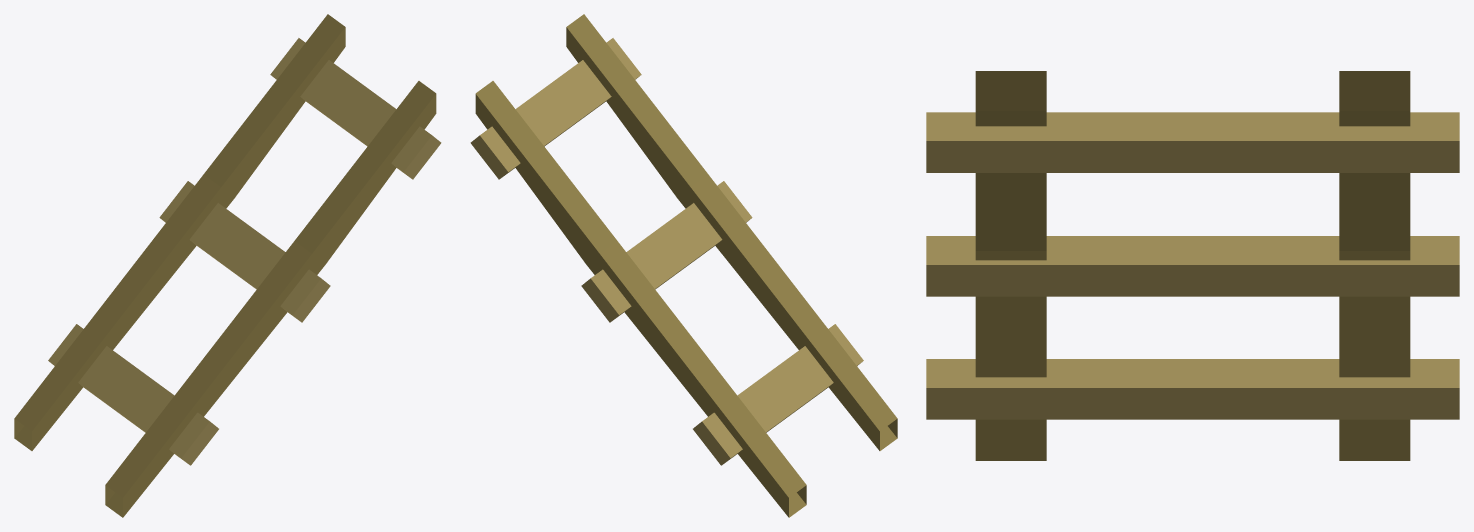
The model's file is quaternius-cube-world-rail-incline.glb.
3 views of the same model, side by side, from view 1: azimuth 30°, elevation 25°; view 2: azimuth 150°, elevation 25°; view 3: azimuth 270°, elevation 25° (orthographic). The views are drawn at different scales.
Parts seen in each view (by area): view 1: Rail_Incline; view 2: Rail_Incline; view 3: Rail_Incline.
Boxes of the visible parts, x1,y1,x2,y2 form: Rail_Incline: (14, 14, 441, 517); Rail_Incline: (470, 14, 897, 517); Rail_Incline: (926, 71, 1459, 460).
Bounding box in the file's own units: 2 × 2.12 × 1.47.
Materials: 1 (1 with a texture image).
